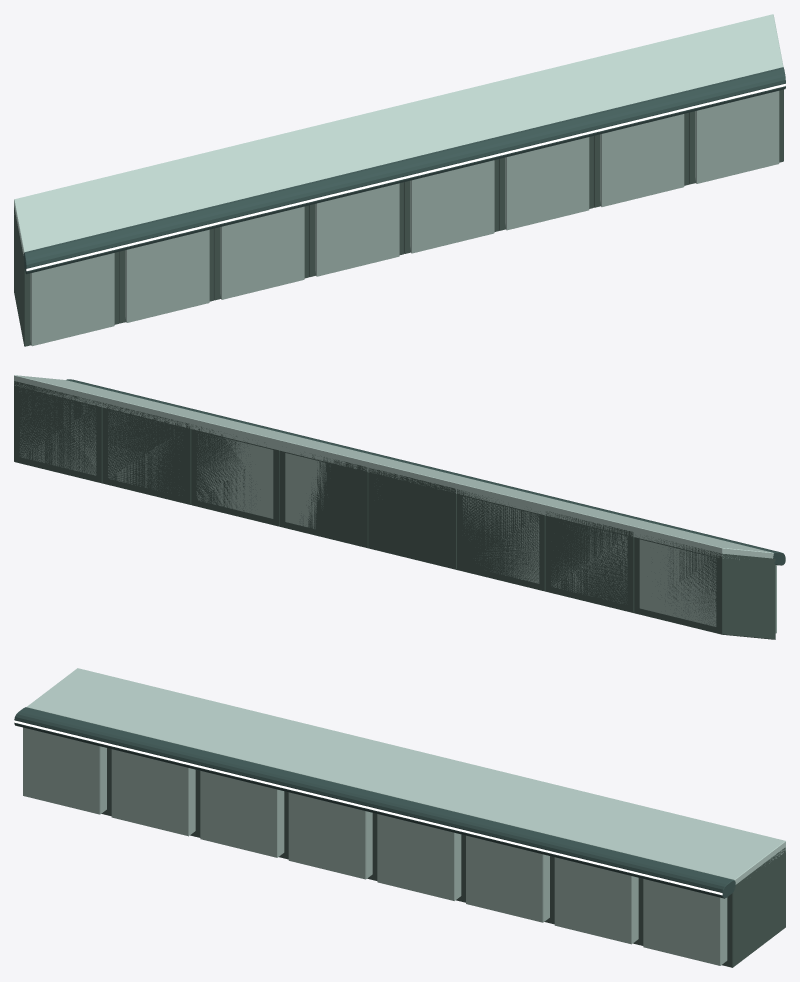
Rendered from Terrain_TopRun8.gltf.
3 views of the same model, one above another, from view 1: azimuth 30°, elevation 25°; view 2: azimuth 150°, elevation 25°; view 3: azimuth 330°, elevation 25° (orthographic). The views are drawn at different scales.
Visible parts, largest first — view 1: Terrain_TopRun8_baked; view 2: Terrain_TopRun8_baked; view 3: Terrain_TopRun8_baked.
Part boxes in pixels (x1,y1,x2,y2): Terrain_TopRun8_baked: (14,14,785,346); Terrain_TopRun8_baked: (14,375,785,639); Terrain_TopRun8_baked: (14,668,785,967).
Bounding box in the file's own units: 8.29 × 1.18 × 0.74.
